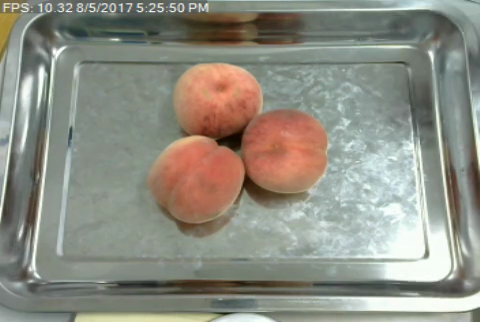Peach: (148, 135, 243, 224), (243, 106, 328, 194), (173, 60, 261, 135)
